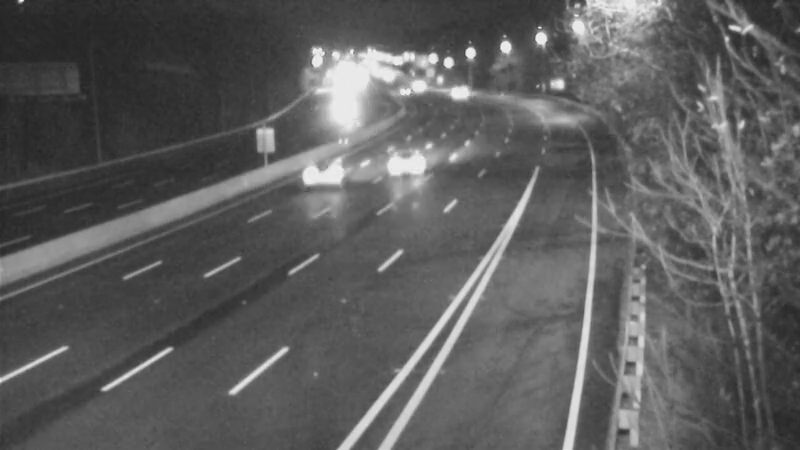vehicle: (376, 118, 456, 198), (279, 130, 359, 210), (377, 65, 427, 115), (425, 72, 475, 122)
